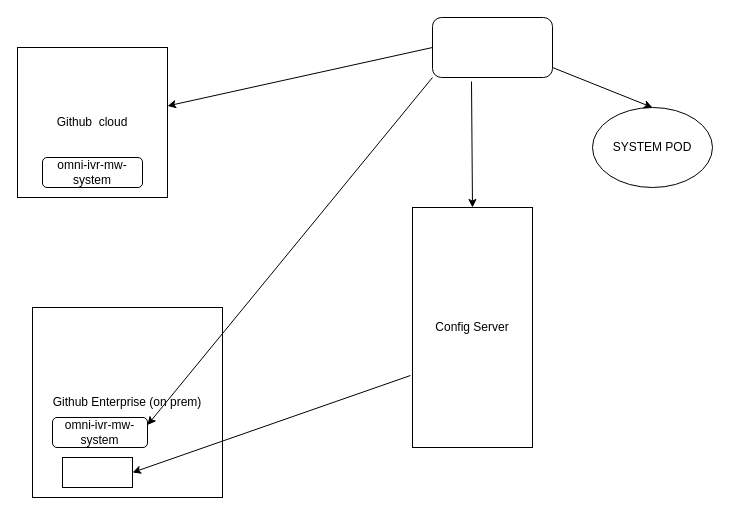
Image size: 730x515. Some labels were removed from this diagram. The shapes that lost their labels are listed below. From the top down, each one's centre as x and y in pixels, then its label:
the point at 492,47: JENKINS BUILD
the point at 97,472: centralized config
